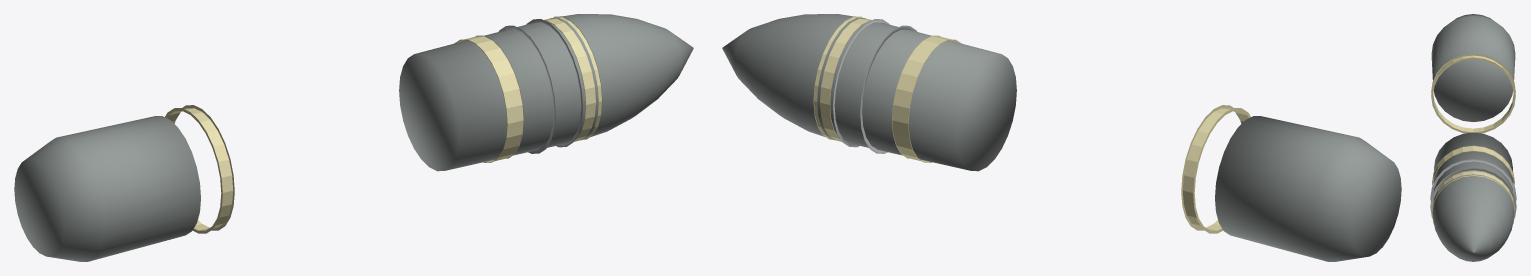
The model's file is RU_SLBM_R27_LOD1.fbx.
3 renders of one model, left to right at view 1: azimuth 30°, elevation 25°; view 2: azimuth 150°, elevation 25°; view 3: azimuth 270°, elevation 25°, orthographic. The views are drawn at different scales.
Parts seen in each view (by area): view 1: WPN_RU_SLBM_R27_LOD1_Body, WPN_RU_SLBM_R27_LOD1_Tail, WPN_RU_SLBM_R27_LOD1_Marking, WPN_RU_SLBM_R27_LOD1_Detail; view 2: WPN_RU_SLBM_R27_LOD1_Body, WPN_RU_SLBM_R27_LOD1_Tail, WPN_RU_SLBM_R27_LOD1_Marking, WPN_RU_SLBM_R27_LOD1_Detail; view 3: WPN_RU_SLBM_R27_LOD1_Body, WPN_RU_SLBM_R27_LOD1_Tail, WPN_RU_SLBM_R27_LOD1_Marking, WPN_RU_SLBM_R27_LOD1_Detail.
Part boxes in pixels (x1,y1,x2,y2): WPN_RU_SLBM_R27_LOD1_Body: (399, 14, 693, 171); WPN_RU_SLBM_R27_LOD1_Tail: (14, 116, 200, 261); WPN_RU_SLBM_R27_LOD1_Marking: (165, 16, 602, 233); WPN_RU_SLBM_R27_LOD1_Detail: (498, 19, 582, 153); WPN_RU_SLBM_R27_LOD1_Body: (722, 14, 1016, 171); WPN_RU_SLBM_R27_LOD1_Tail: (1215, 116, 1401, 261); WPN_RU_SLBM_R27_LOD1_Marking: (813, 16, 1250, 233); WPN_RU_SLBM_R27_LOD1_Detail: (833, 19, 917, 153); WPN_RU_SLBM_R27_LOD1_Body: (1432, 132, 1514, 261); WPN_RU_SLBM_R27_LOD1_Tail: (1431, 14, 1515, 121); WPN_RU_SLBM_R27_LOD1_Marking: (1431, 53, 1515, 224); WPN_RU_SLBM_R27_LOD1_Detail: (1430, 159, 1516, 218).
Bounding box in the file's own units: 9 × 1.58 × 1.58.
